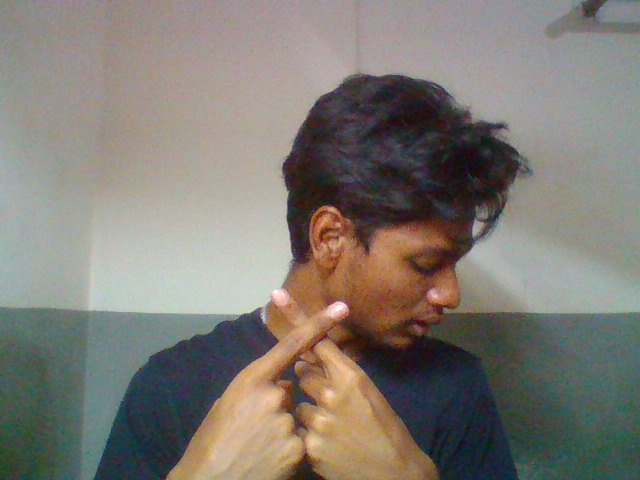X: (199, 286, 449, 480)
